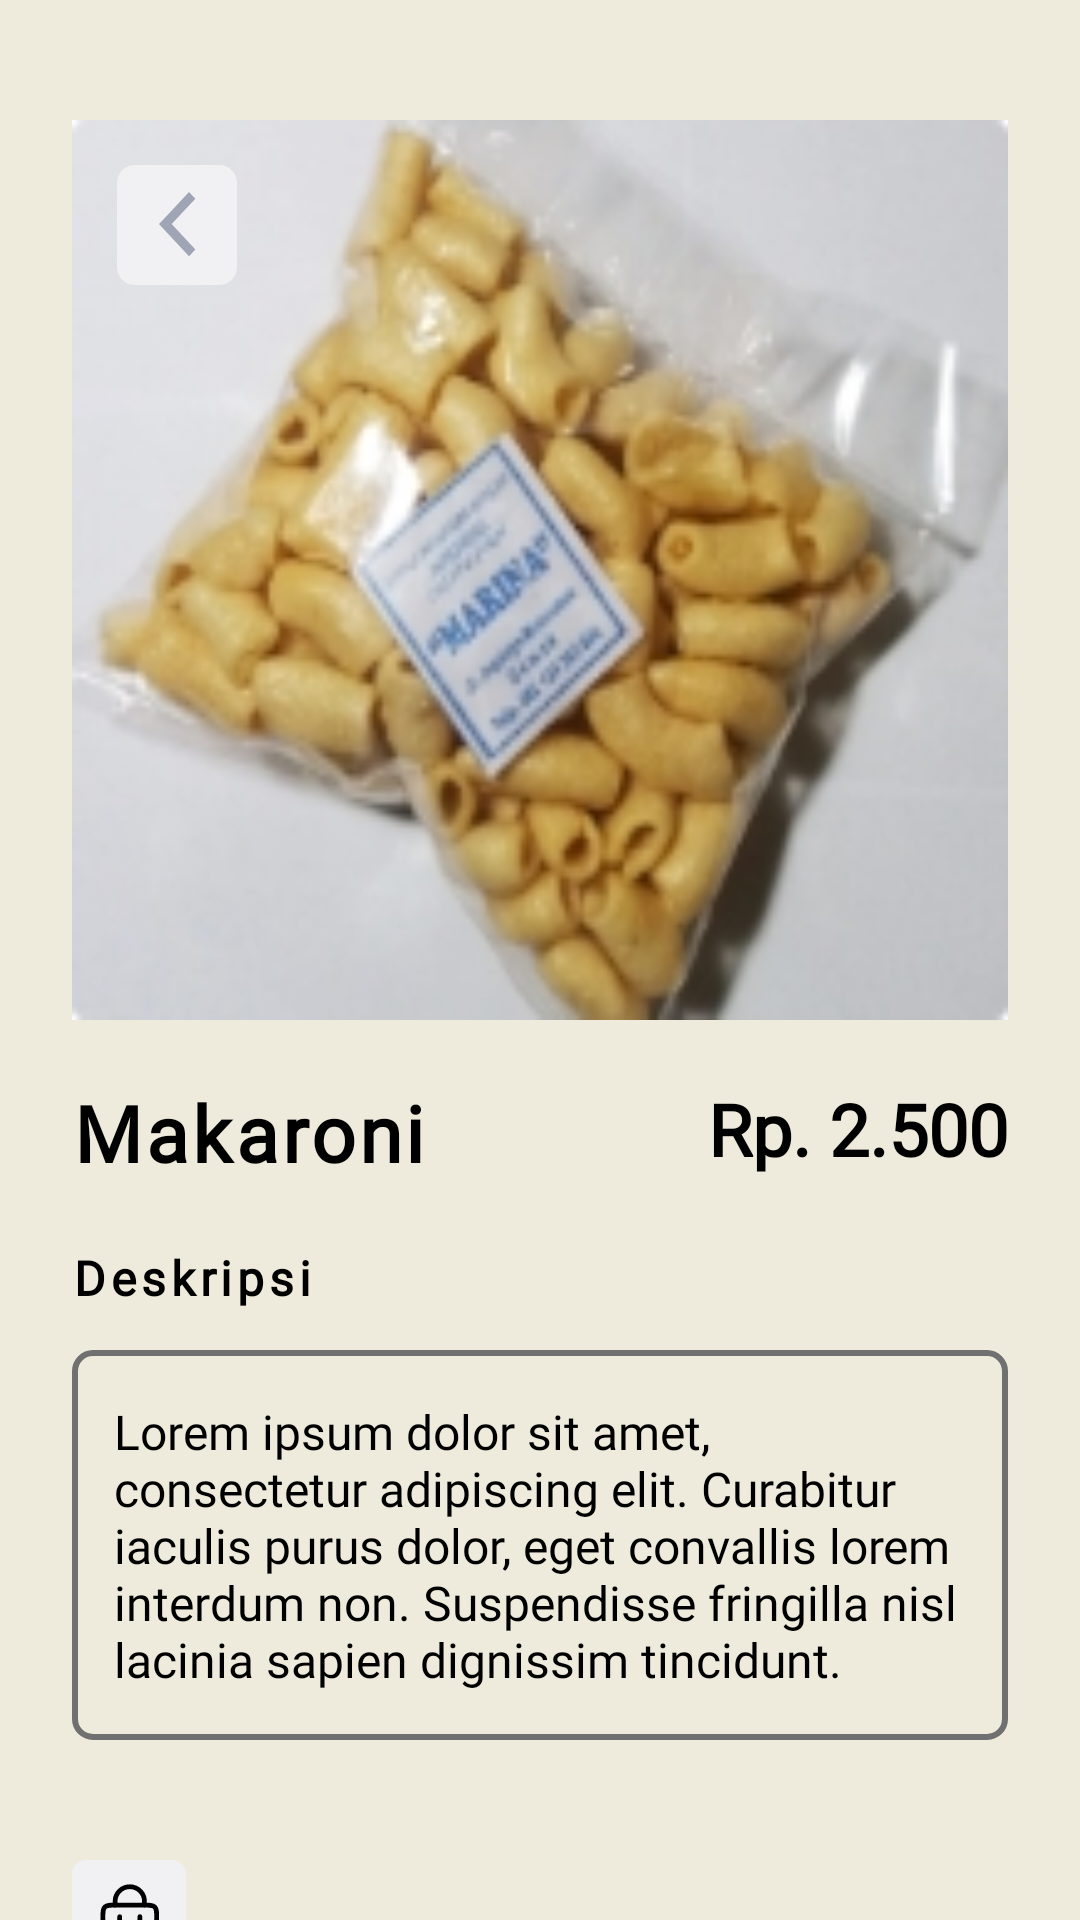

Icon click points for this 1080x1920 phone screenshot, format (x,y):
back: (177,225)
